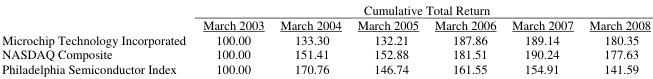table: (1, 0, 650, 76)
table column: (1, 0, 193, 76), (193, 0, 271, 76), (348, 0, 426, 76), (271, 0, 348, 76), (426, 0, 503, 76), (503, 0, 580, 76), (580, 0, 650, 76)
table column header: (1, 0, 650, 31)
table row: (1, 0, 650, 16), (1, 60, 650, 76), (1, 16, 650, 31), (1, 45, 650, 60), (1, 31, 650, 45)
table spanning cell: (193, 0, 650, 16)
